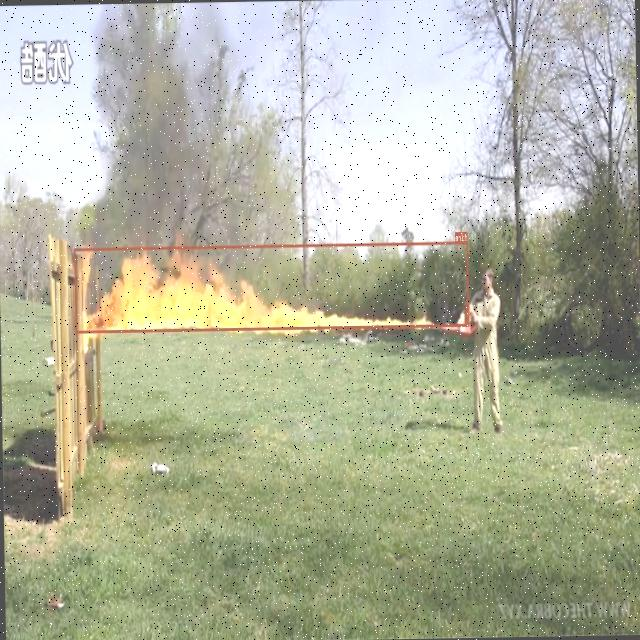fire: (74, 241, 469, 332)
